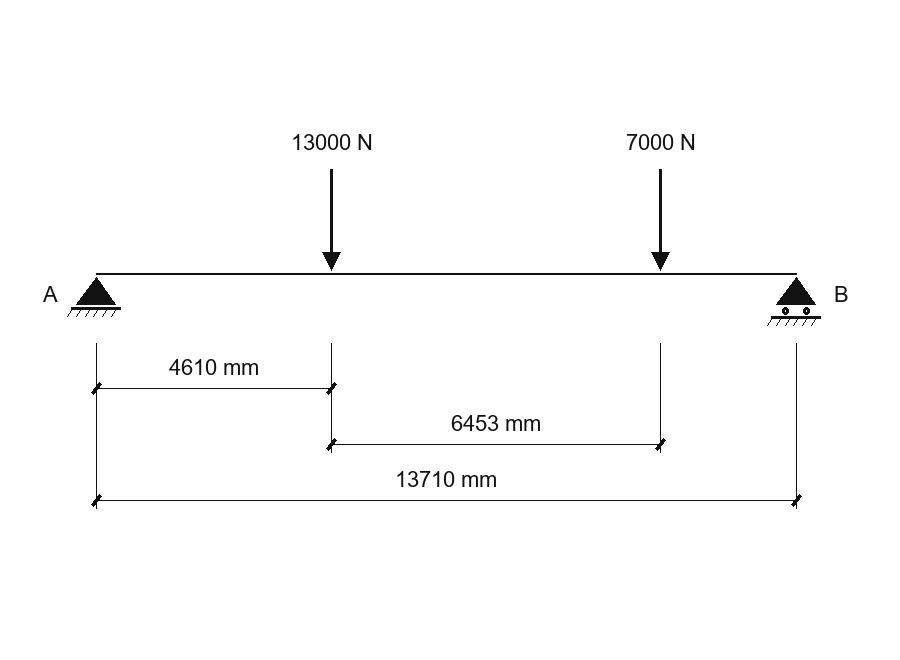pin_support: (67, 277, 121, 317)
point_load: (322, 169, 341, 271), (651, 169, 670, 271)
roller_support: (767, 277, 821, 326)
